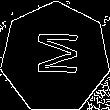M_W: (30, 34, 80, 81)
